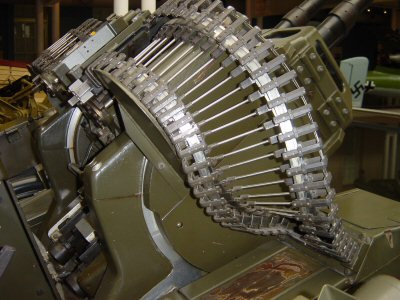rifle: (16, 9, 372, 292)
